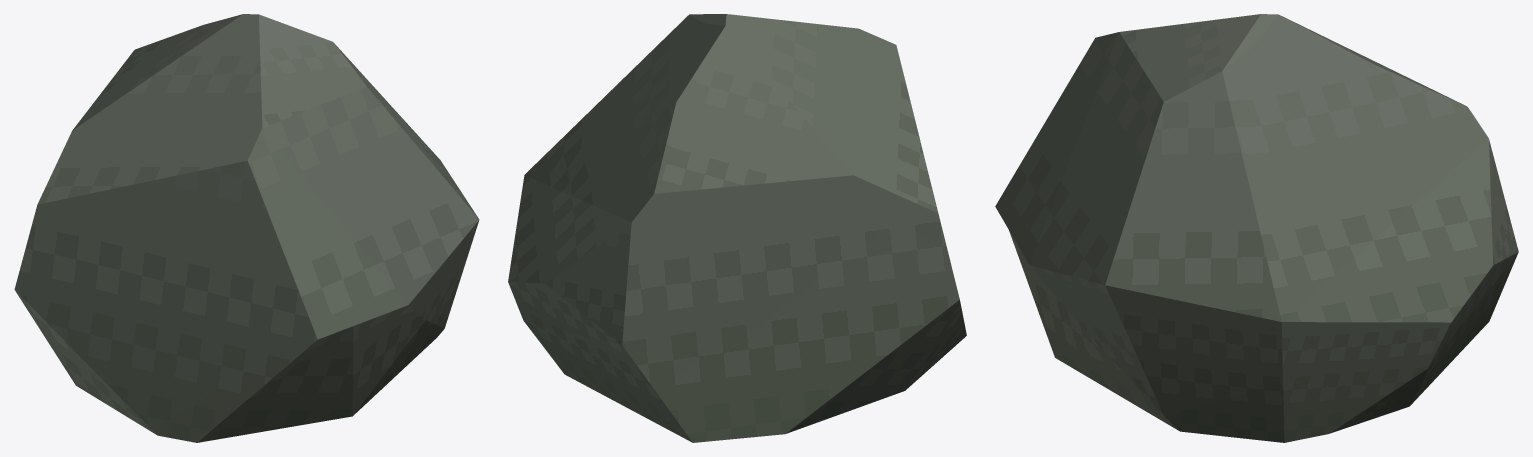
Rendered from Mesh_Deco_Pierre_1.glb.
3 renders of one model, left to right at view 1: azimuth 30°, elevation 25°; view 2: azimuth 150°, elevation 25°; view 3: azimuth 270°, elevation 25°, orthographic. The views are drawn at different scales.
Visible parts, largest first — view 1: Mesh_Deco_Pierre_1; view 2: Mesh_Deco_Pierre_1; view 3: Mesh_Deco_Pierre_1.
Boxes of the visible parts, x1,y1,x2,y2 form: Mesh_Deco_Pierre_1: (14, 14, 479, 442); Mesh_Deco_Pierre_1: (508, 14, 966, 442); Mesh_Deco_Pierre_1: (995, 14, 1518, 442).
Bounding box in the file's own units: 0.2358 × 0.1726 × 0.2367.
Materials: 1 (1 with a texture image).
